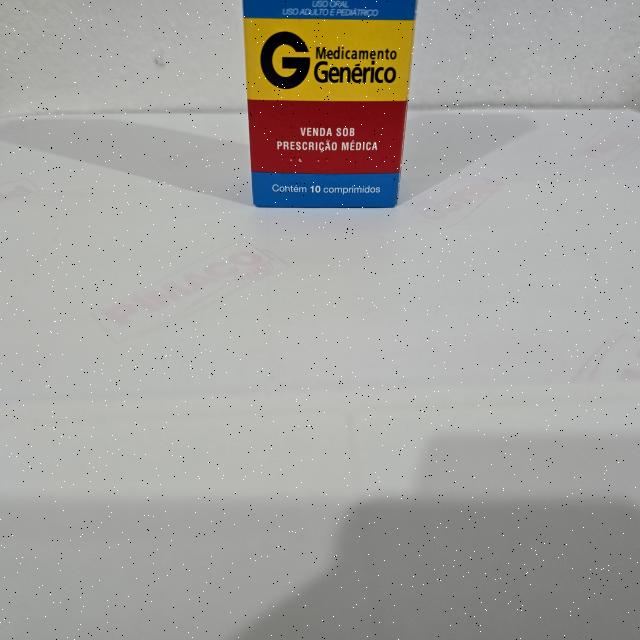prednisona: (239, 0, 422, 213)
